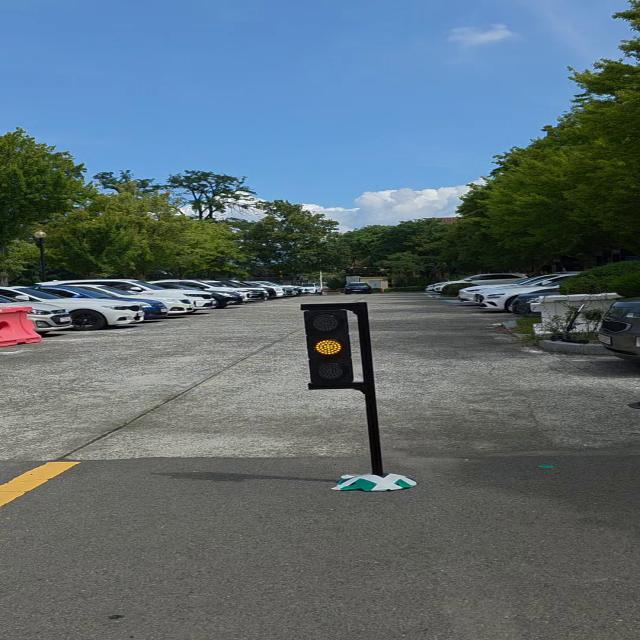yellow: (302, 306, 368, 385)
